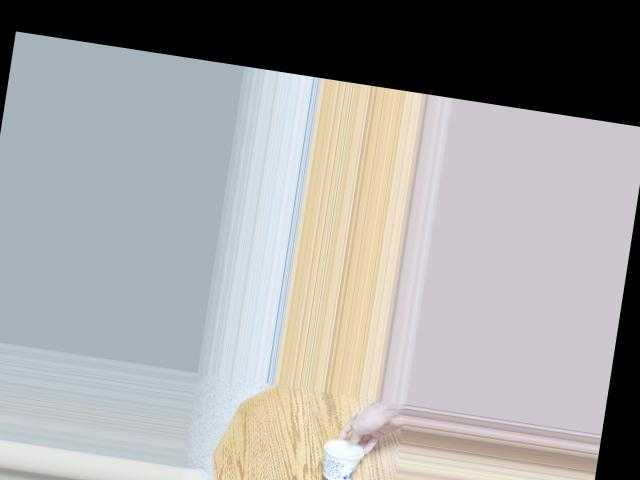cotage: (315, 430, 367, 480)
